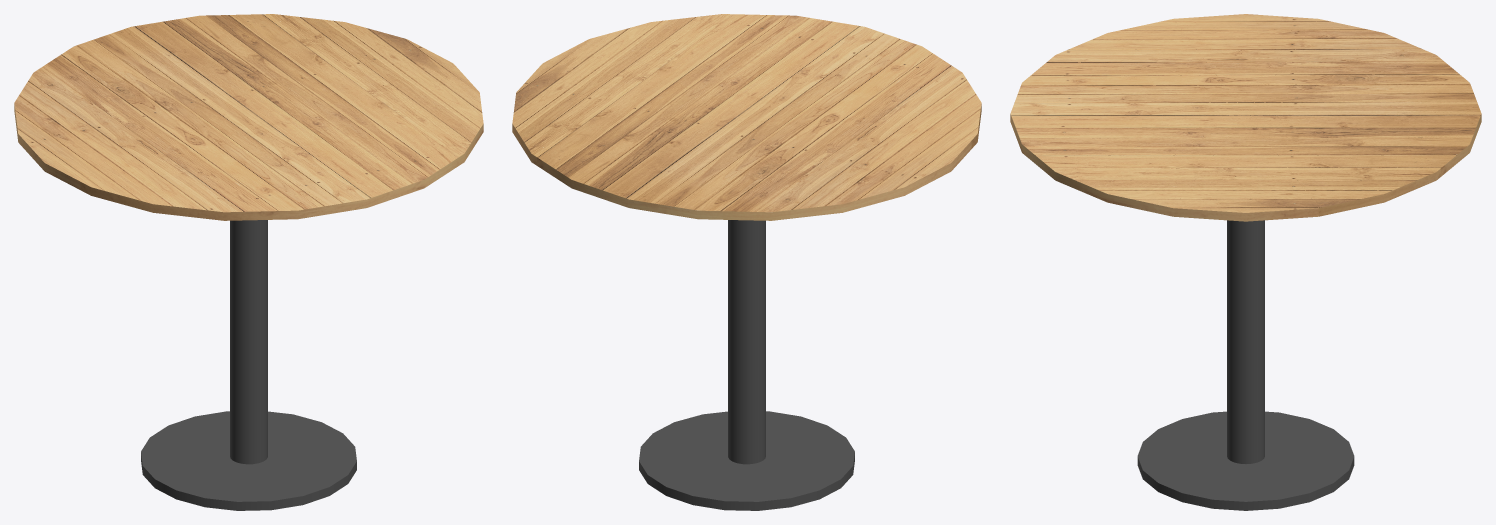
The model's file is sm_StaffTable.fbx.
3 views of the same model, side by side, from view 1: azimuth 30°, elevation 25°; view 2: azimuth 150°, elevation 25°; view 3: azimuth 270°, elevation 25° (orthographic).
Parts seen in each view (by area): view 1: pCylinder4; view 2: pCylinder4; view 3: pCylinder4.
Part boxes in pixels (x1,y1,x2,y2): pCylinder4: [14, 14, 483, 510]; pCylinder4: [512, 14, 981, 510]; pCylinder4: [1010, 14, 1481, 510].
Bounding box in the file's own units: 1000 × 824 × 1000.
2 materials, 1 textured.
